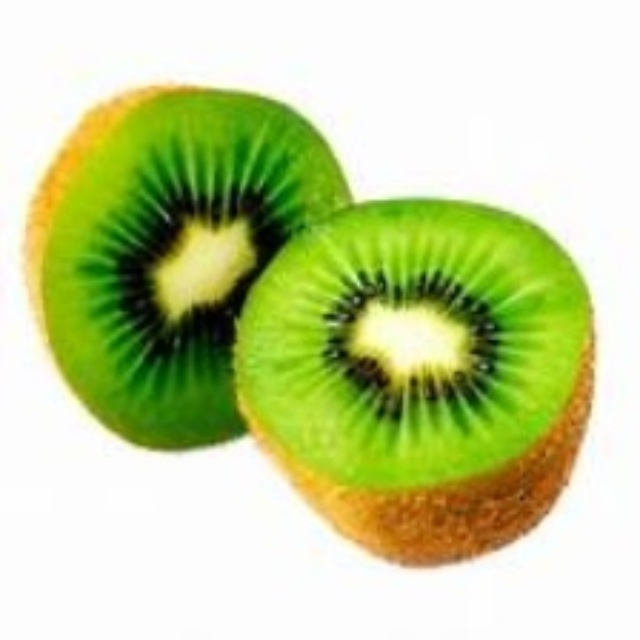kiwi: (246, 197, 593, 568), (30, 86, 335, 455)
